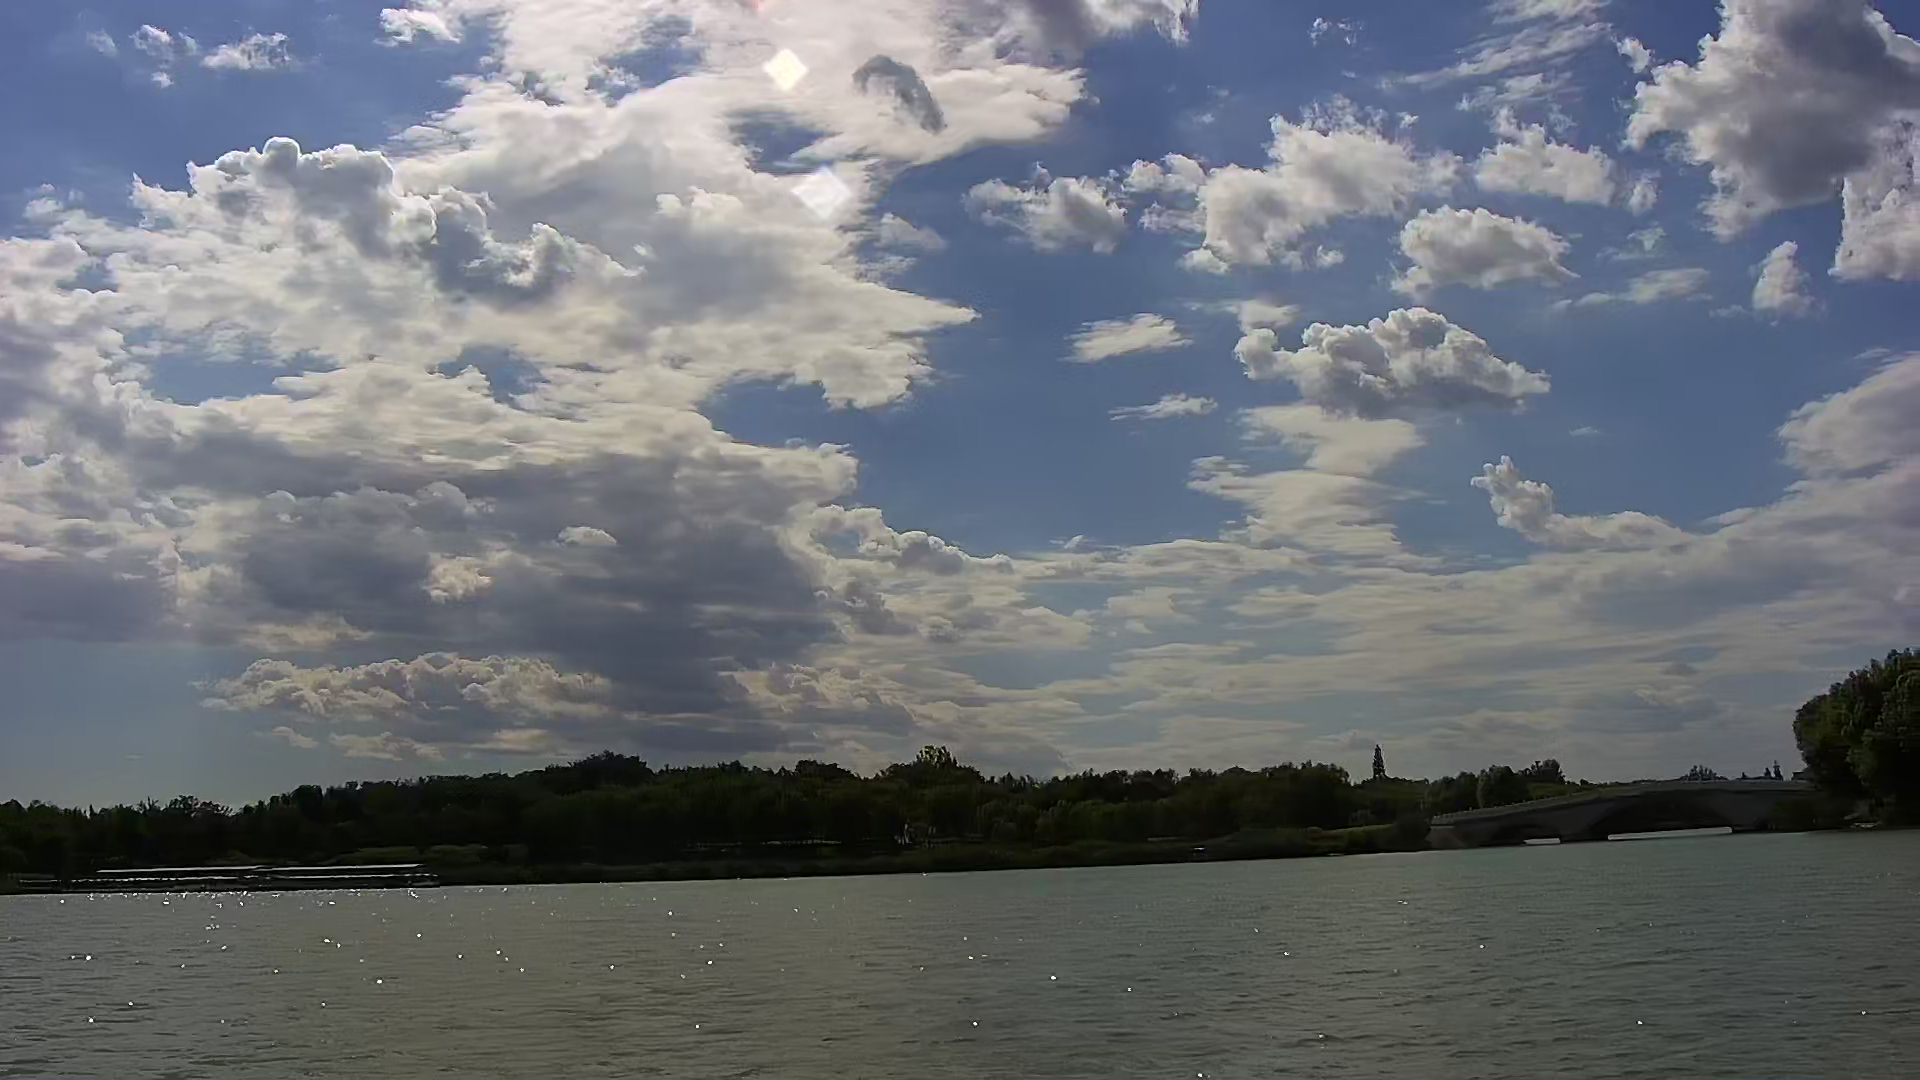bridge: (1428, 775, 1842, 851)
harbor: (102, 858, 425, 894)
